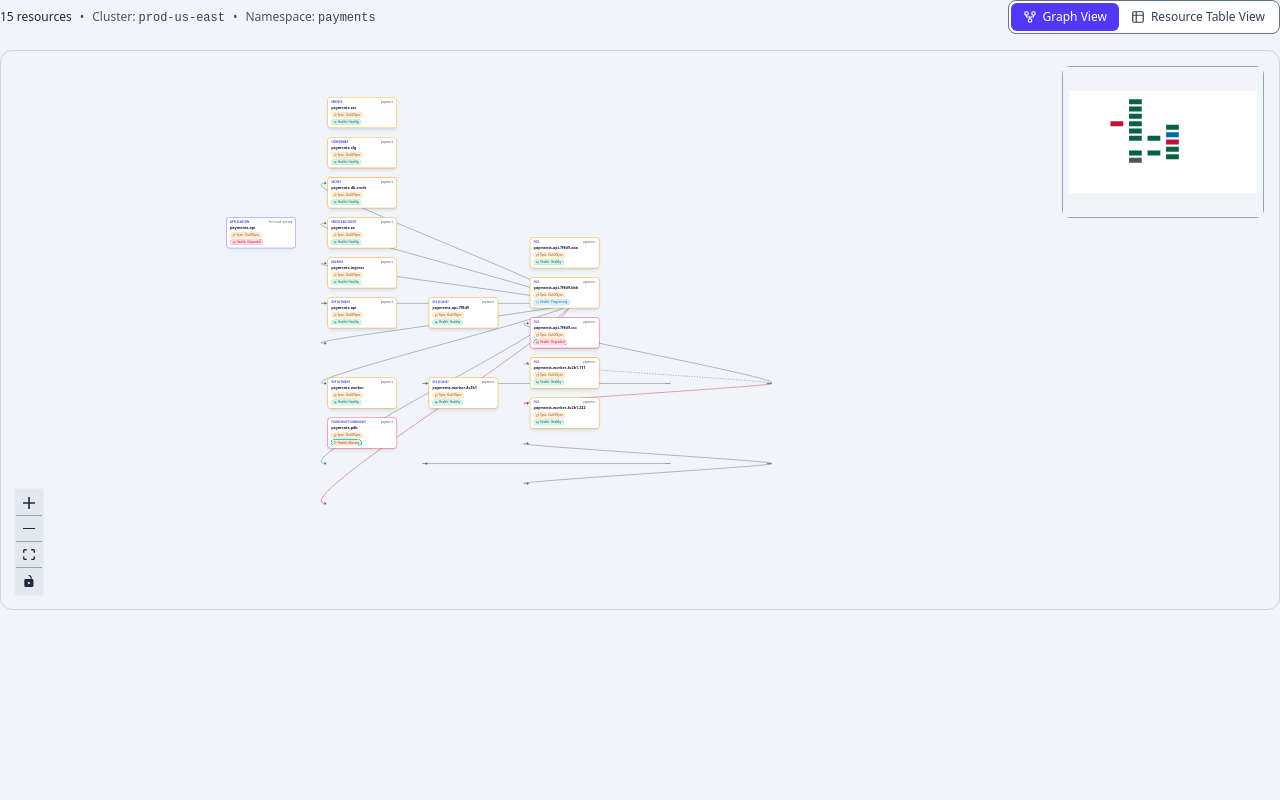
Test case: ResourceGraph & dagre layout (T16.3 & Trap Guard T16.3) › defaults to Graph View for < 100 resources, opens ResourceInspector, and refreshes inspector on graph poll updates
Later steps or results of the test are not shown.
Check: the element with class "react-flow__minimap" is shown, box [1062,66,1264,218]
Click the button "Resource Table View" at (1198, 17), box [1119,3,1277,31]
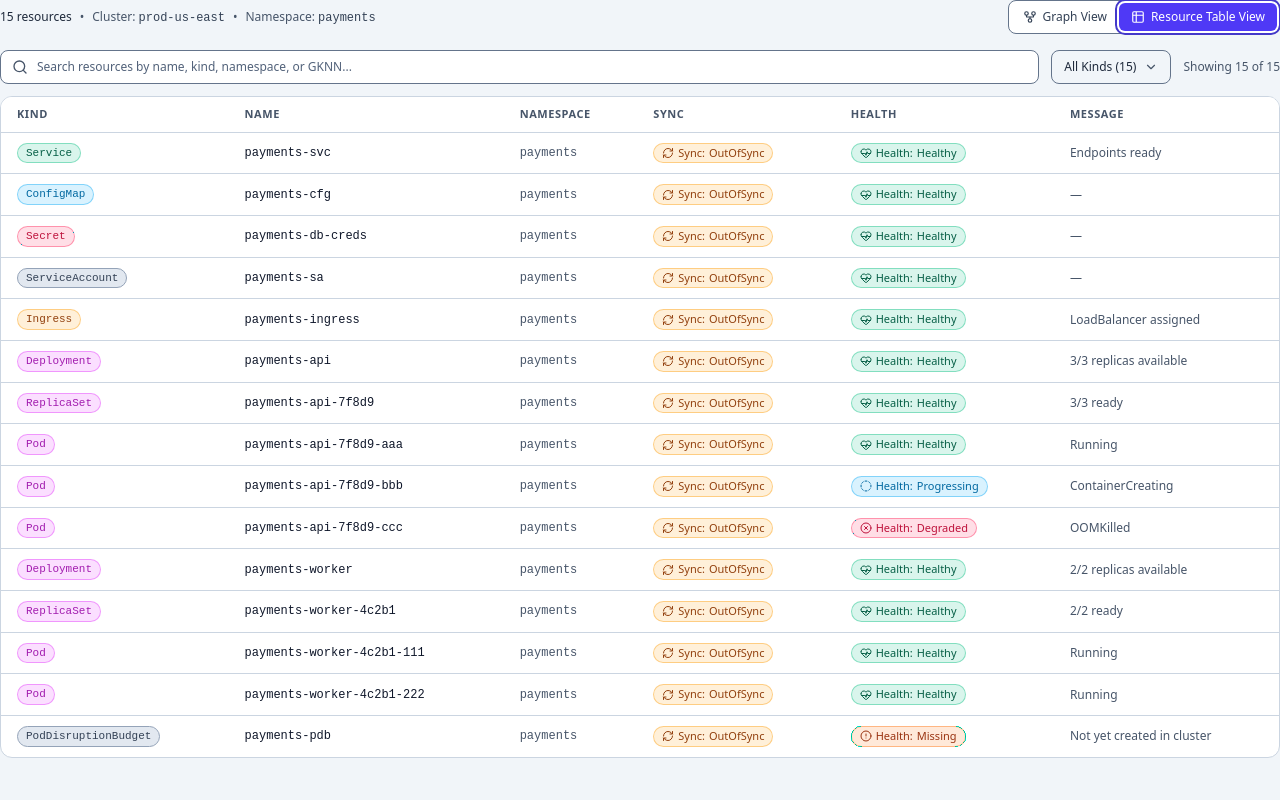
Check: the element with test id "resource-table-view" is shown
Click the text "payments-api-7f8d9-ccc" at (366, 528), box [229,507,504,549]
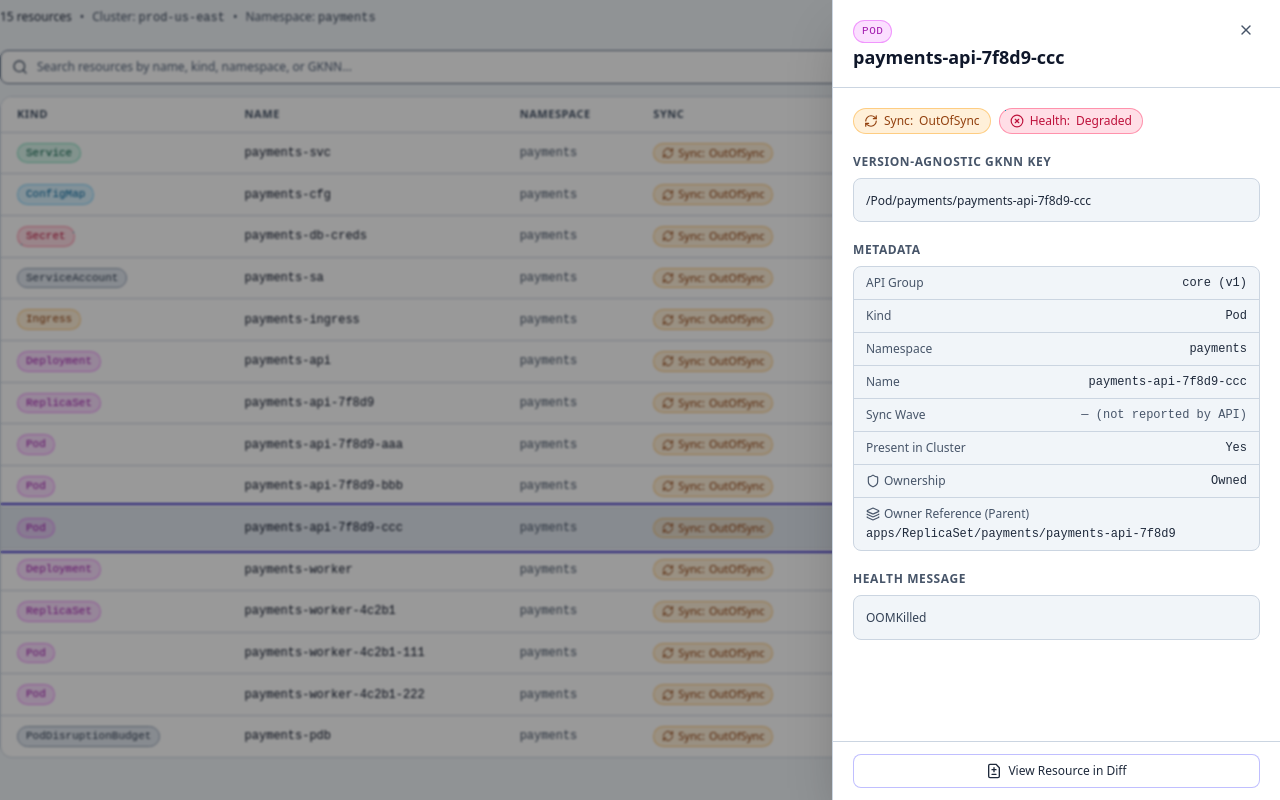
Check: the element with test id "resource-inspector" is shown, box [832,0,1279,799]
Check: the element with test id "inspector-gknn" reads "/Pod/payments/payments-api-7f8d9-ccc", box [866,188,1091,212]
Check: the text with test id "inspector-sync-wave" reads "— (not reported by API)", box [1081,408,1247,422]
